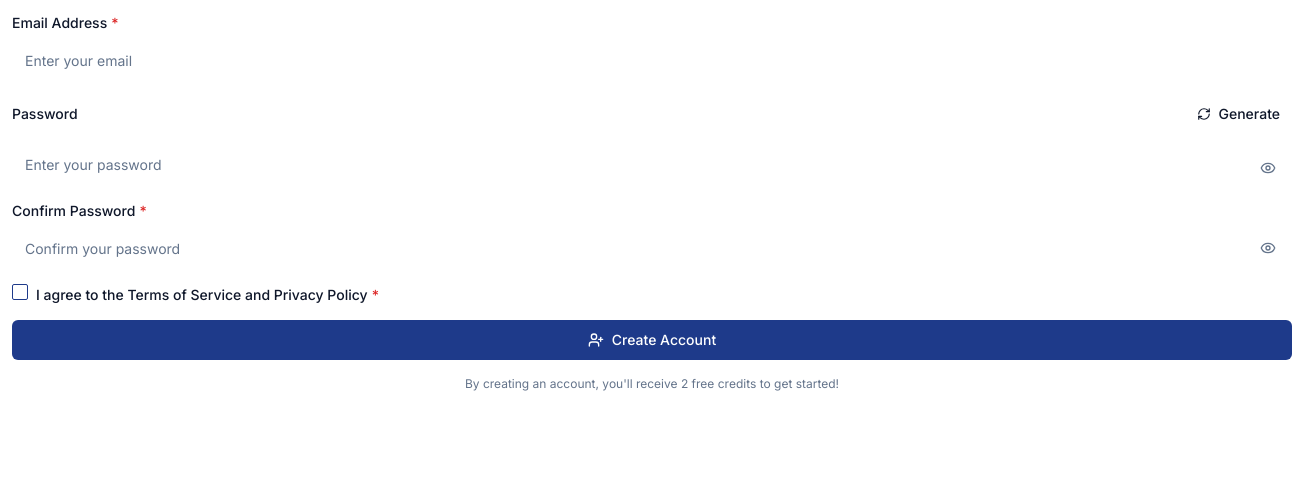
Test: RegisterForm › should show validation error for password mismatch
The width and height of the screenshot is (1304, 488).
Type "password123" into the password field with placeholder "Enter your password". click: (652, 164)
box: 12,144 -> 1292,184
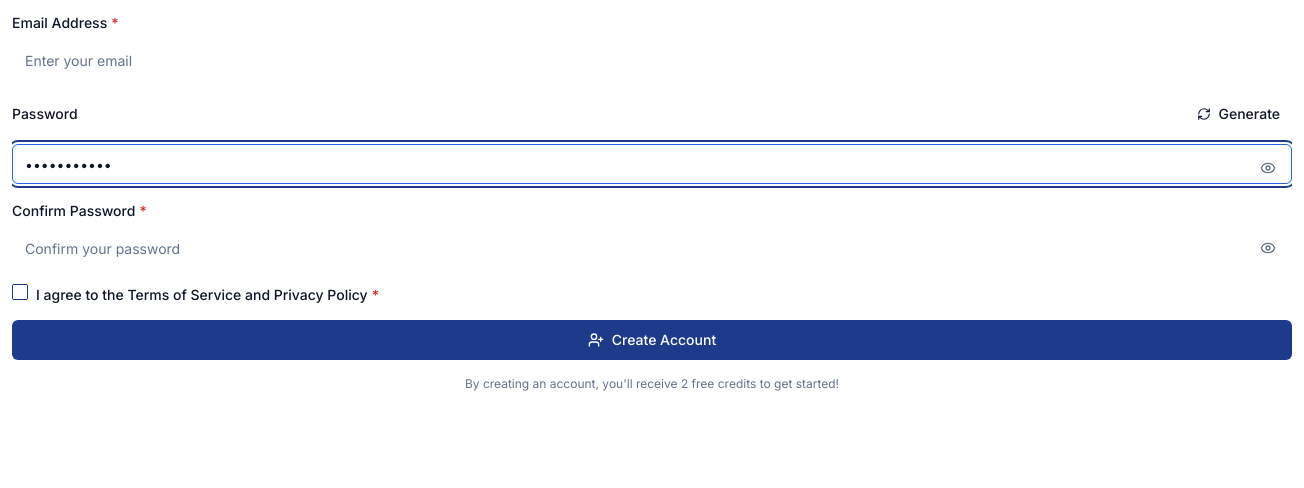
Type "password456" into the password field labelled "Confirm Password*". click: (652, 248)
box: 12,228 -> 1292,268
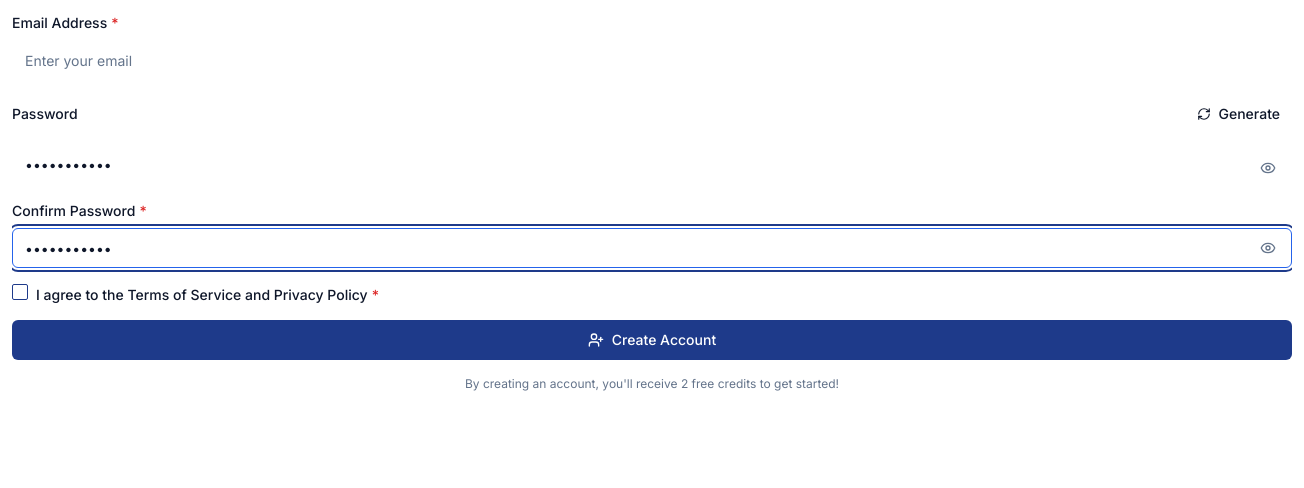
Submit the form
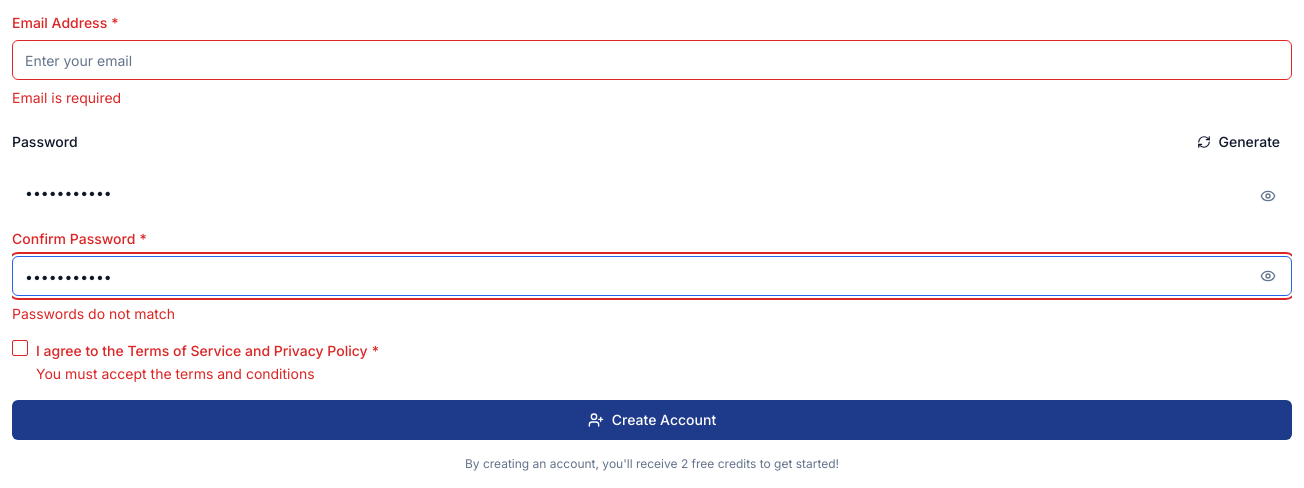
Now the text "Passwords do not match" is shown, box 12,305 -> 175,322
